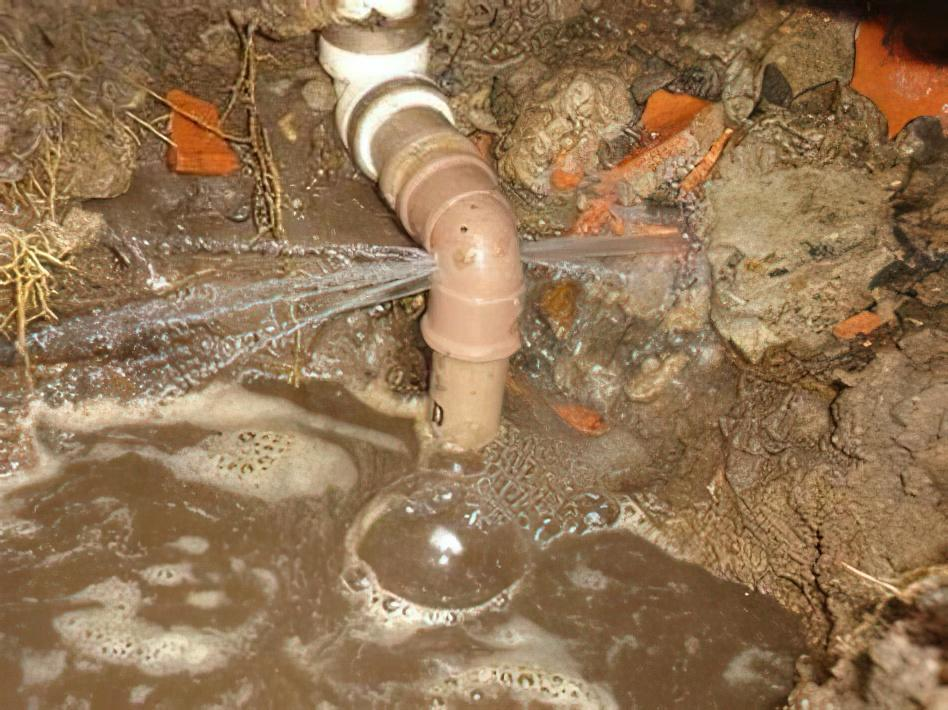pipe burst: (57, 234, 448, 405), (503, 231, 700, 268)
water accumulation: (0, 360, 822, 710)
